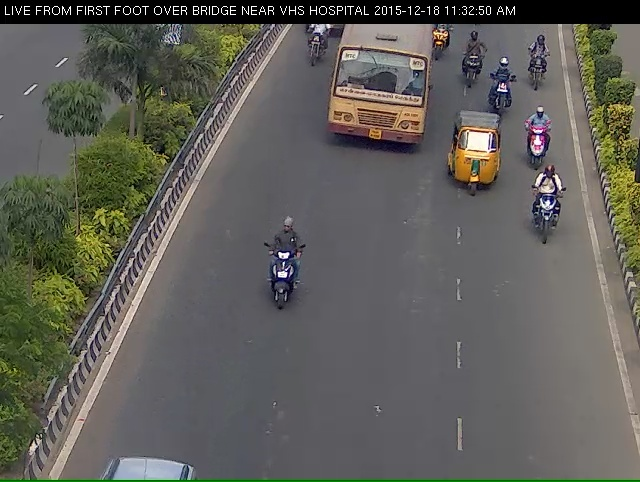Bus: (334, 24, 420, 166)
Car: (439, 96, 501, 203)
Person: (241, 238, 317, 344), (531, 179, 570, 260), (492, 54, 524, 128), (527, 115, 563, 170), (528, 39, 558, 98), (460, 37, 488, 97), (423, 21, 449, 71)
